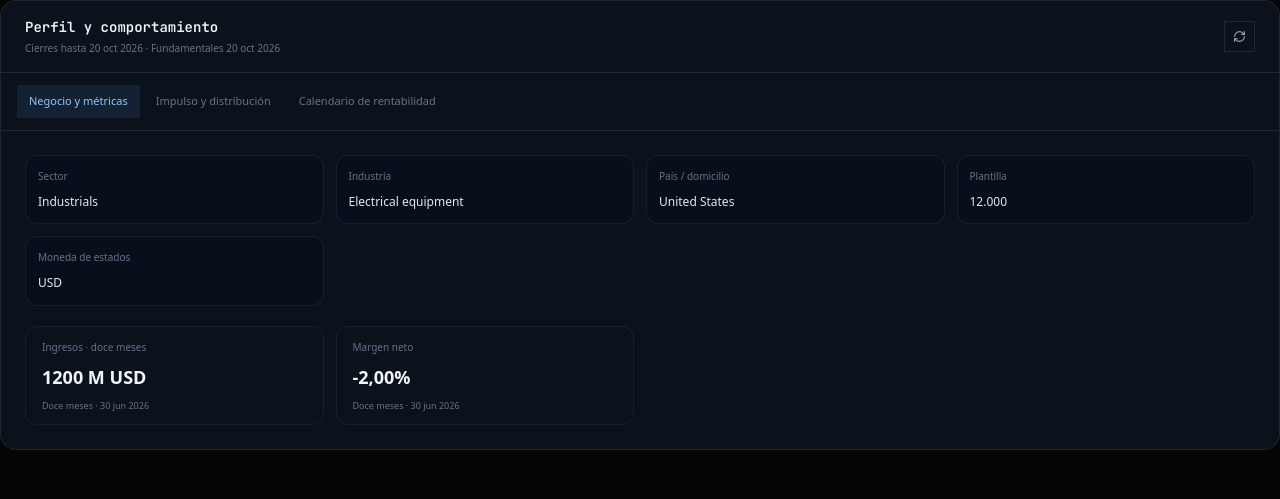
Test: retains the last loaded data if a refresh fails and offers another refresh
This screenshot has width=1280, height=499.
Expected: the text "Electrical equipment" is shown, [348, 192, 464, 210]
Click the button named "Actualizar datos complementarios" at [1240, 36], box [1224, 21, 1255, 52]
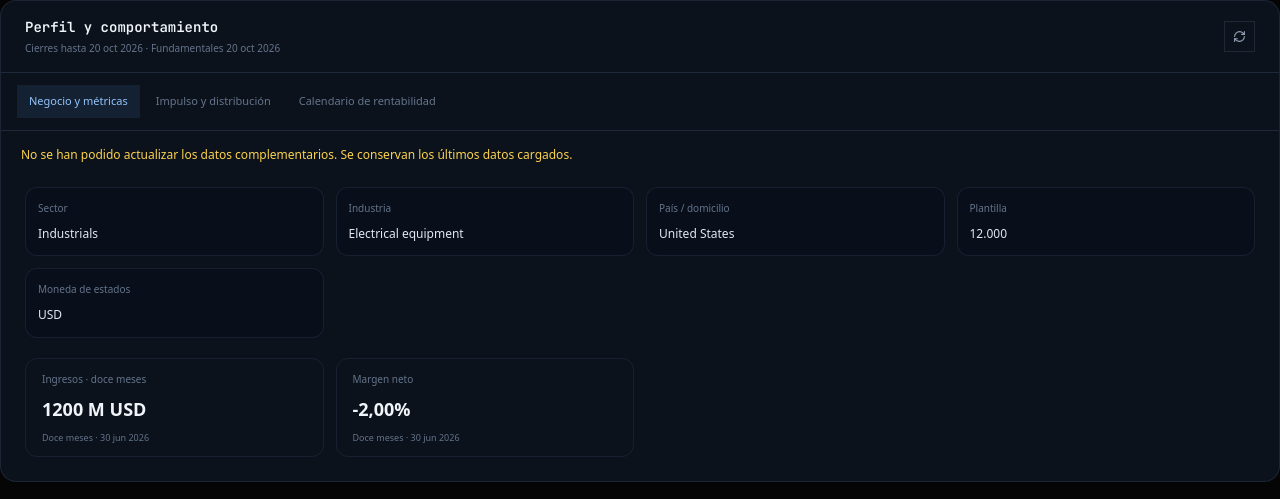
Expected: the text "Electrical equipment" is shown, [348, 224, 464, 242]
Expected: the message shows "Se conservan los últimos datos cargados", [337, 146, 572, 162]
